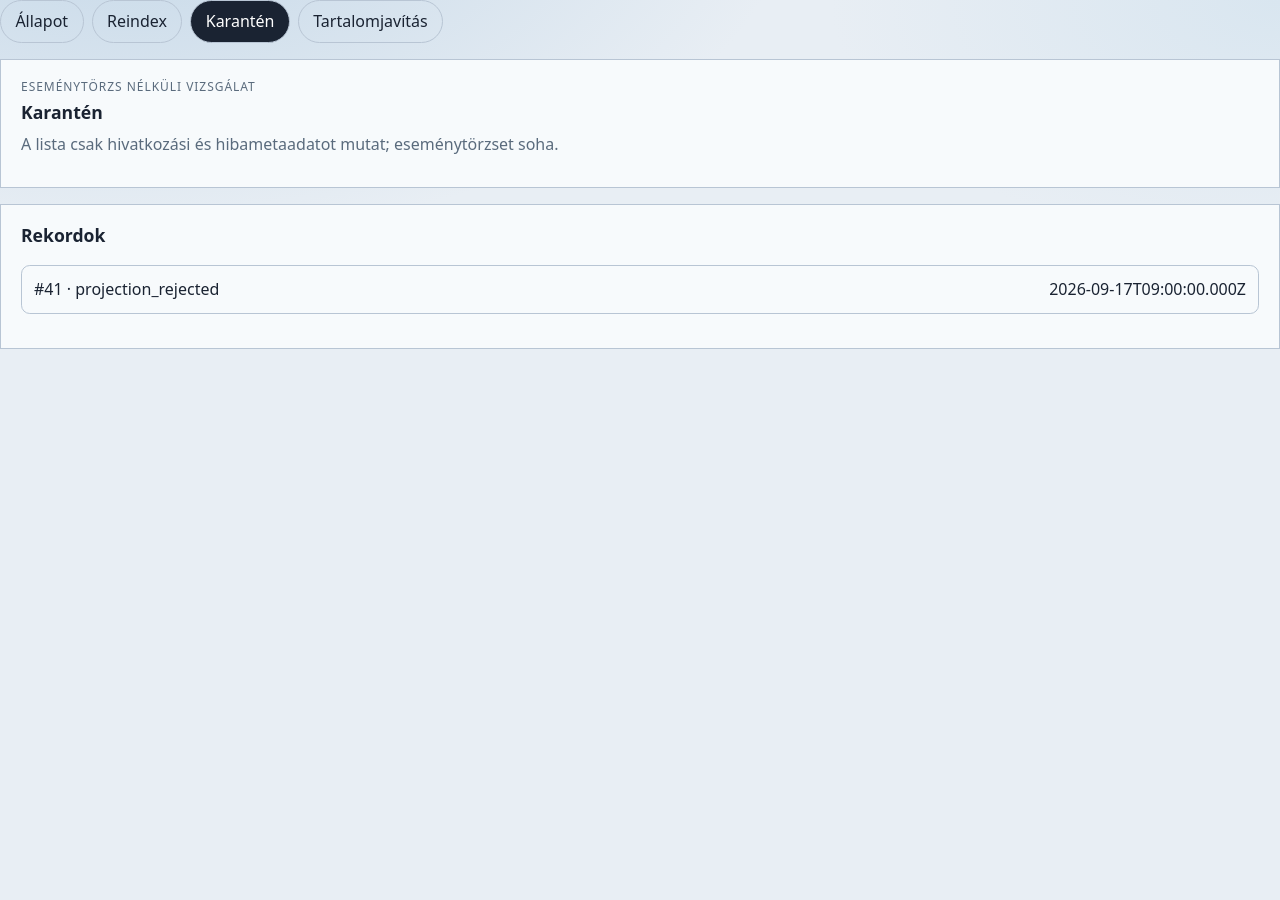
Test: Phase 5 operator pages › inspects quarantine metadata and starts a reason-bound replay without payload
Step 1. Click the button "#41 · projection_rejected 2026-09-17T09:00:00.000Z" → (147,289), box left=21, top=264, right=1259, bottom=314
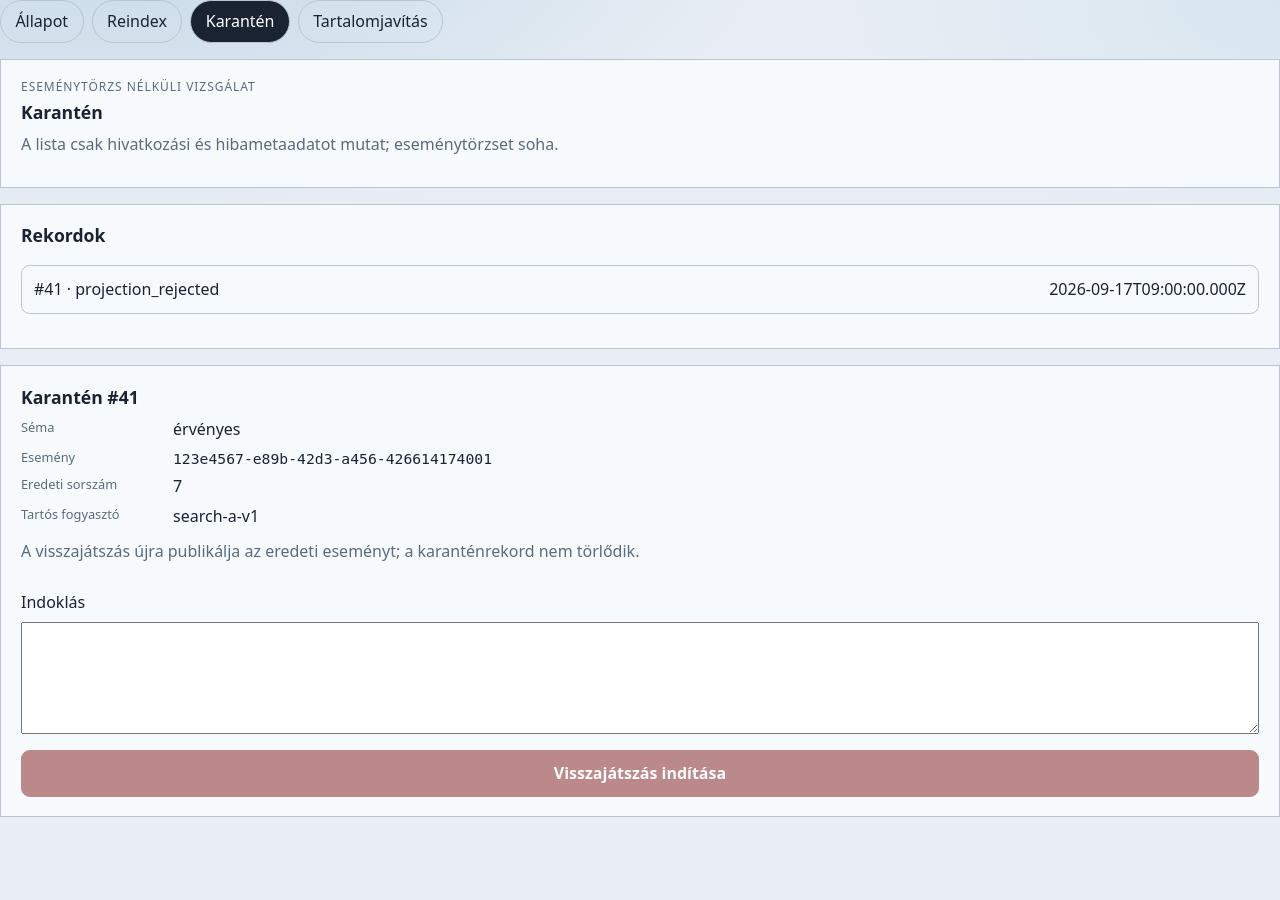
Result: the heading "Karantén #41" is shown at left=21, top=384, right=139, bottom=408
Step 2. Type "Projection újrapróbálás" into the text box labelled "Indoklás" → (640,678), box left=21, top=622, right=1259, bottom=734
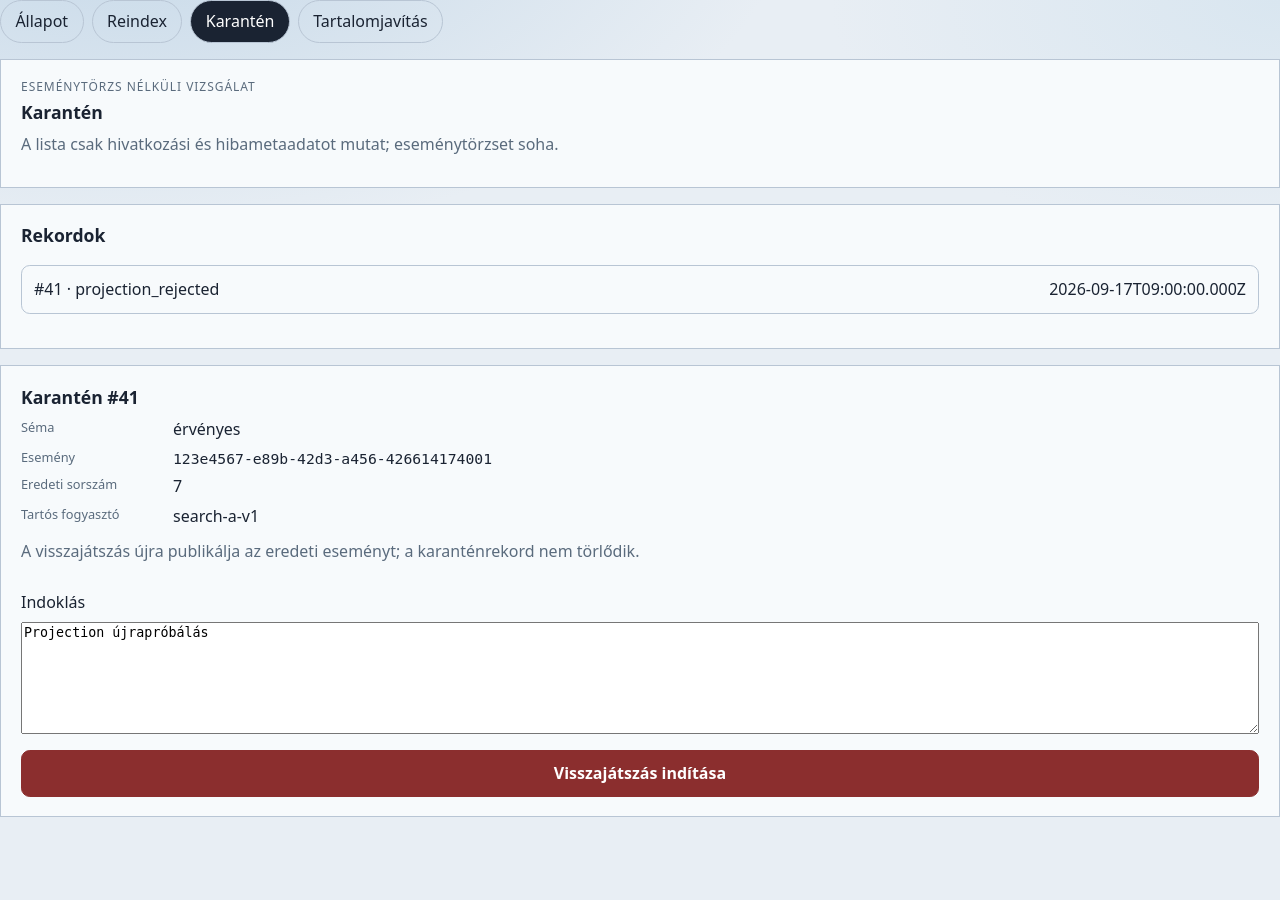
Step 3. Click the button "Visszajátszás indítása" → (640,773), box left=21, top=750, right=1259, bottom=797
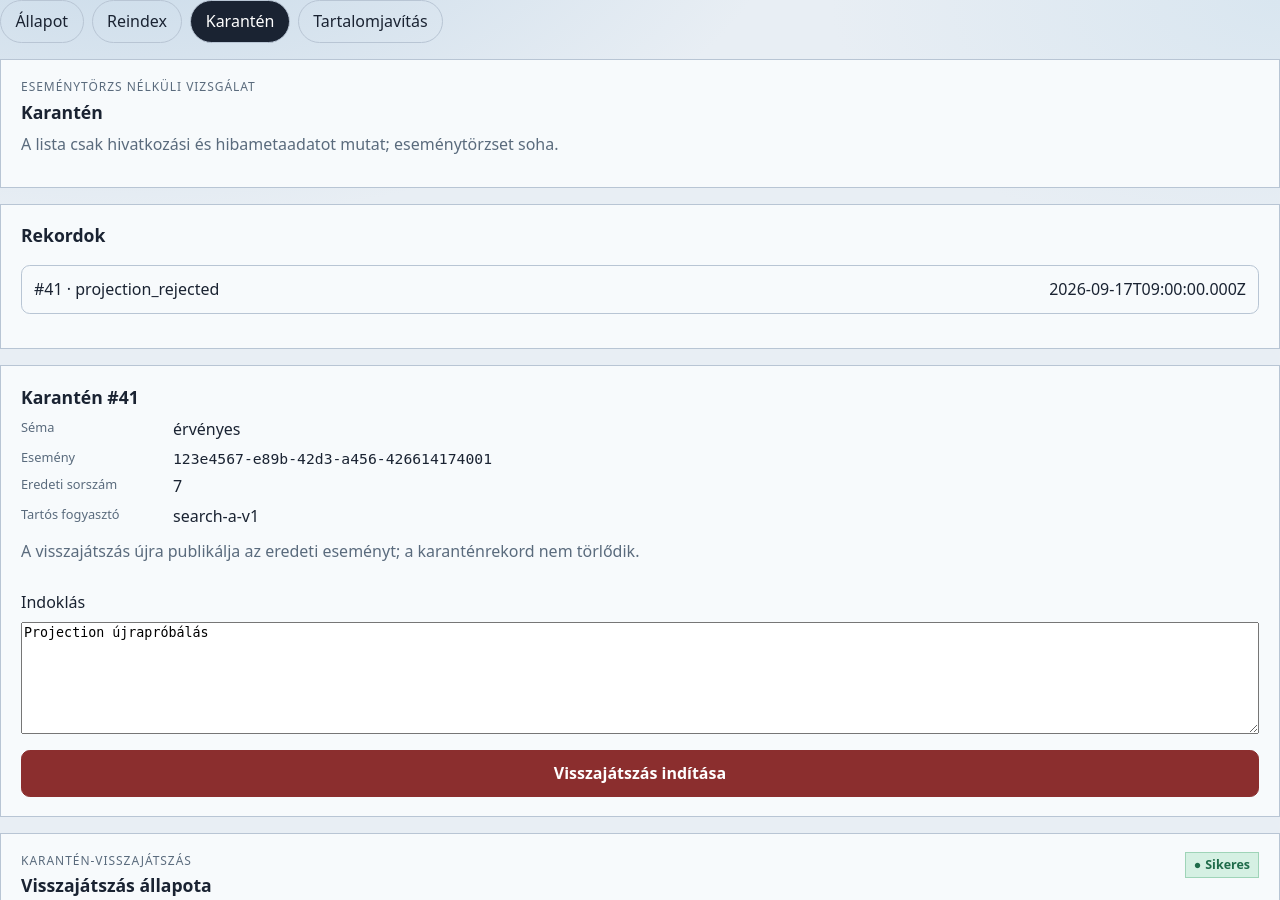
Result: the heading "Visszajátszás állapota" is shown at left=21, top=873, right=212, bottom=899
